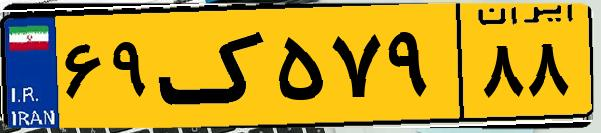5: (270, 28, 330, 110)
6: (57, 26, 110, 100)
7: (330, 28, 385, 110)
8: (475, 38, 525, 113), (525, 38, 570, 115)
9: (385, 28, 445, 110), (110, 28, 158, 98)
ک: (158, 12, 270, 120)
